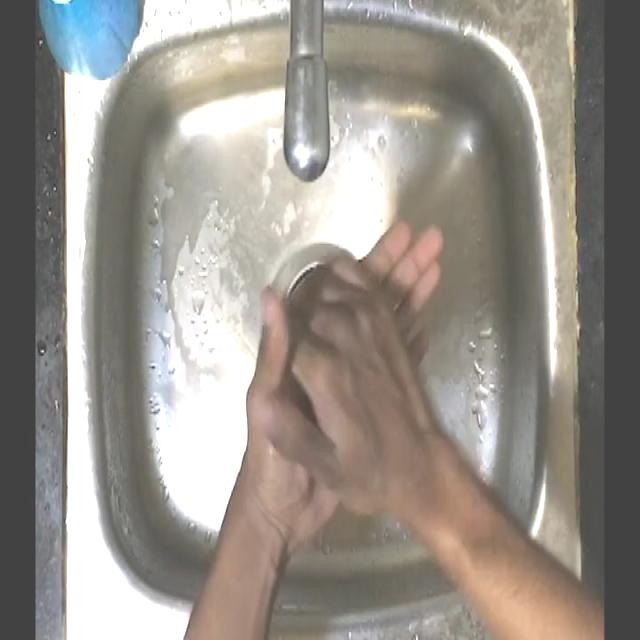step_5: (230, 212, 460, 530)
